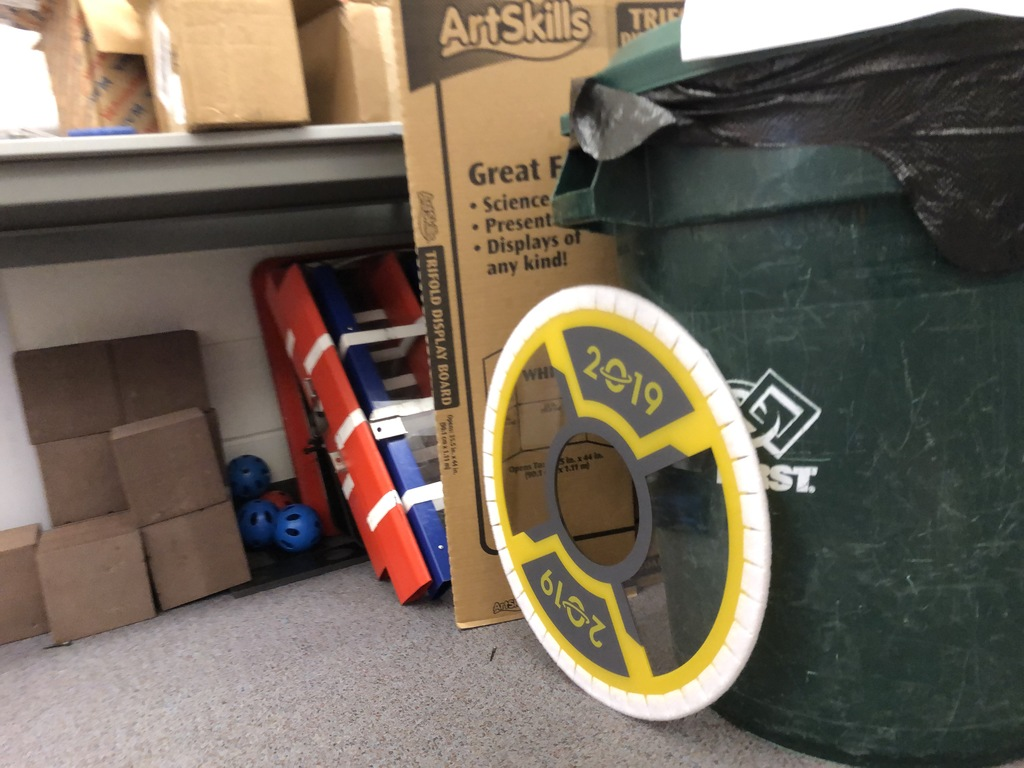hatch_panel: (467, 273, 799, 726)
